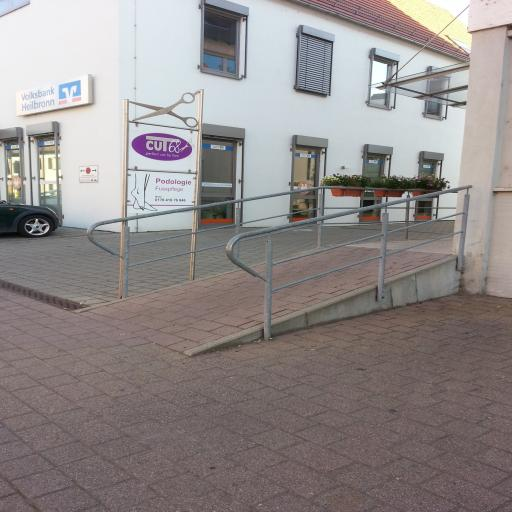ramp: (70, 246, 454, 356)
